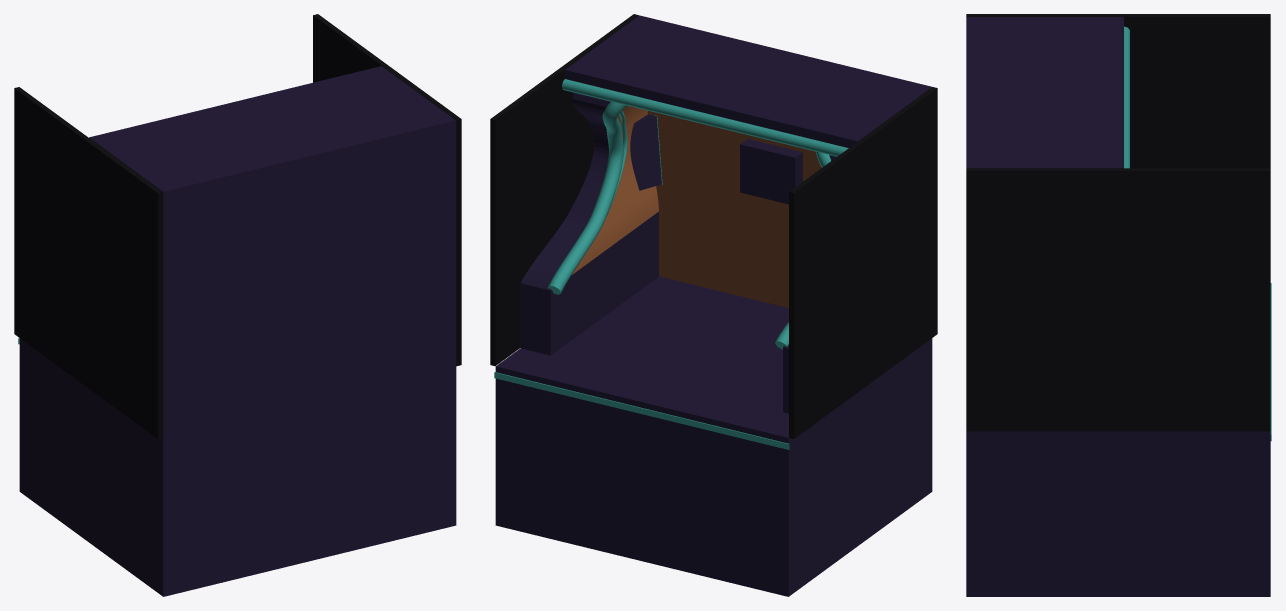
File: Cabinet.obj
3 renders of one model, left to right at view 1: azimuth 30°, elevation 25°; view 2: azimuth 150°, elevation 25°; view 3: azimuth 270°, elevation 25°, orthographic. The views are drawn at different scales.
Parts seen in each view (by area): view 1: Cabinet; view 2: Cabinet; view 3: Cabinet.
Part boxes in pixels (bbox=[...]): Cabinet: bbox=[14, 14, 461, 596]; Cabinet: bbox=[490, 14, 937, 596]; Cabinet: bbox=[966, 14, 1271, 596].
Bounding box in the file's own units: 0.6594 × 0.84 × 0.542.
